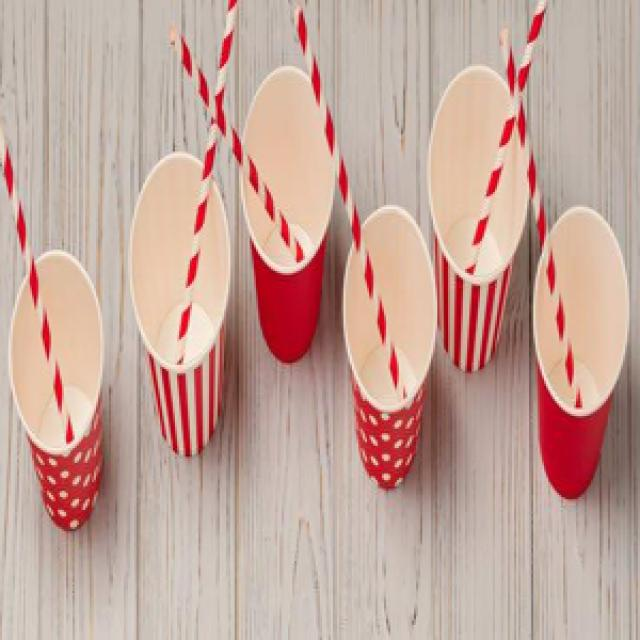plastic cup: (514, 179, 636, 504), (414, 53, 535, 378), (224, 60, 346, 365), (122, 152, 243, 456), (2, 248, 115, 536), (343, 205, 439, 492)
